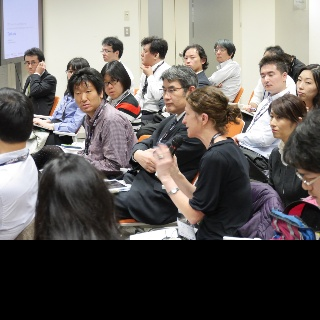without_mask: (73, 78, 100, 112), (163, 76, 187, 112), (182, 100, 204, 138), (269, 106, 295, 137), (296, 69, 317, 100), (259, 62, 282, 90), (104, 74, 123, 98), (184, 46, 199, 70), (140, 43, 155, 65), (214, 43, 229, 62), (25, 54, 39, 74), (102, 42, 115, 61), (66, 65, 78, 80), (265, 52, 275, 55)
